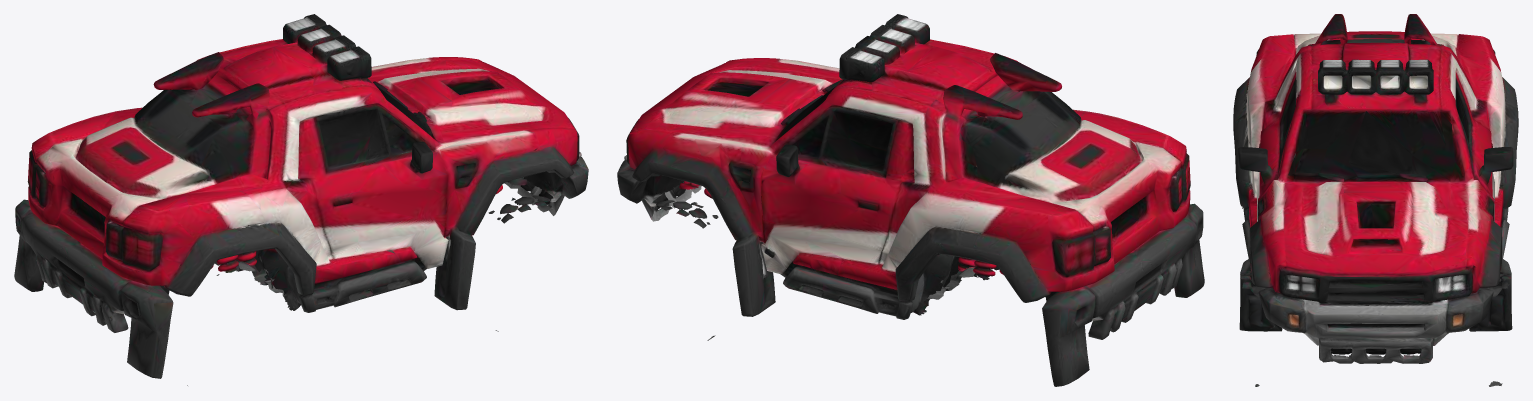
File: vereda-caf6sEZv.glb
3 renders of one model, left to right at view 1: azimuth 30°, elevation 25°; view 2: azimuth 150°, elevation 25°; view 3: azimuth 270°, elevation 25°, orthographic. The views are drawn at different scales.
Parts seen in each view (by area): view 1: carroceria; view 2: carroceria; view 3: carroceria.
Part boxes in pixels (bbox=[...]): carroceria: bbox=[14, 14, 588, 385]; carroceria: bbox=[617, 14, 1204, 386]; carroceria: bbox=[1233, 14, 1518, 386].
Bounding box in the file's own units: 3.91 × 2.14 × 2.04.
Materials: 2 (2 with a texture image).
